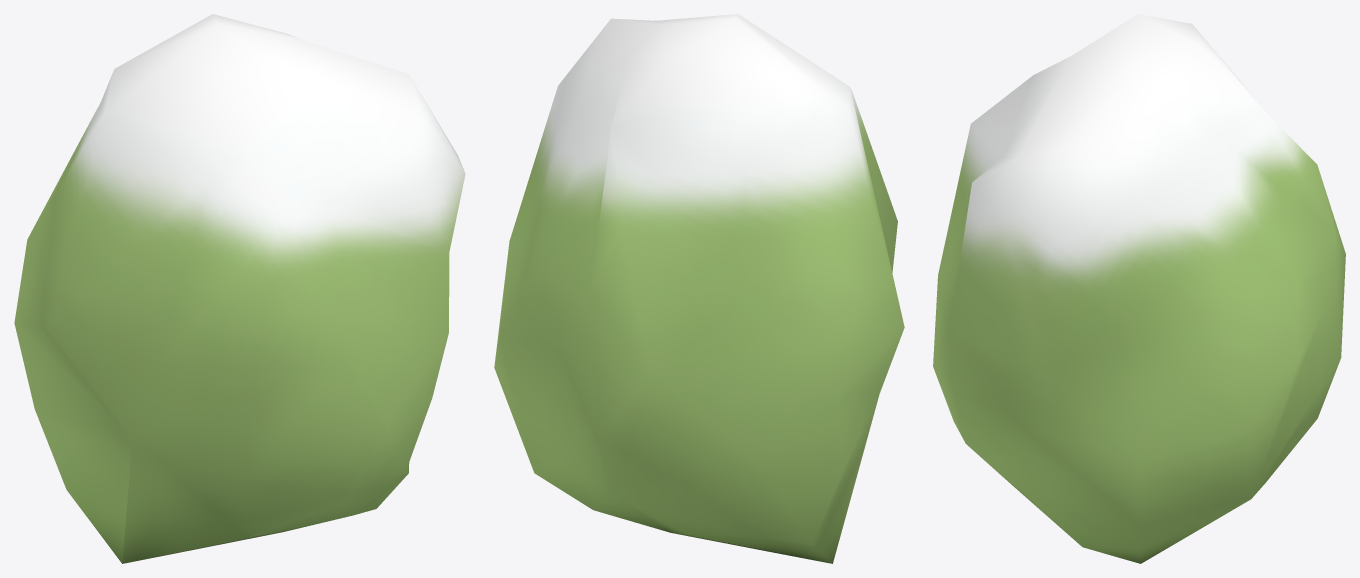
The picture shows the model from 3 angles, left to right: view 1: azimuth 30°, elevation 25°; view 2: azimuth 150°, elevation 25°; view 3: azimuth 270°, elevation 25°; orthographic projection. The views are drawn at different scales.
Visible parts, largest first — view 1: wBush; view 2: wBush; view 3: wBush.
Boxes of the visible parts, x1=… form: wBush: x1=14, y1=14, x2=465, y2=563; wBush: x1=494, y1=14, x2=904, y2=563; wBush: x1=933, y1=14, x2=1345, y2=563.
Bounding box in the file's own units: 4.93 × 6.57 × 4.96.
Materials: 1 (1 with a texture image).
